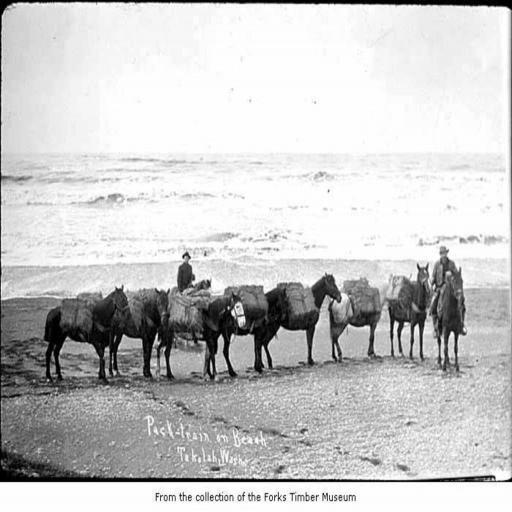horse: (44, 260, 464, 386)
